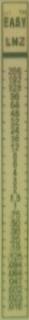number: (7, 302, 24, 311), (7, 294, 24, 303), (7, 286, 24, 295), (7, 253, 24, 262), (7, 278, 24, 286), (7, 270, 24, 278), (7, 262, 24, 270), (8, 244, 23, 253), (7, 67, 23, 75), (7, 76, 22, 84), (9, 117, 22, 126), (9, 236, 23, 244), (8, 84, 22, 92), (9, 219, 21, 228), (9, 210, 21, 219), (10, 228, 22, 236), (9, 194, 21, 202), (10, 126, 20, 135), (10, 143, 20, 152), (10, 109, 21, 117), (10, 100, 19, 109), (9, 93, 20, 100), (11, 135, 20, 143), (11, 169, 19, 178), (12, 178, 19, 188), (12, 159, 18, 168), (12, 152, 19, 159), (12, 203, 18, 210), (12, 187, 18, 194)
